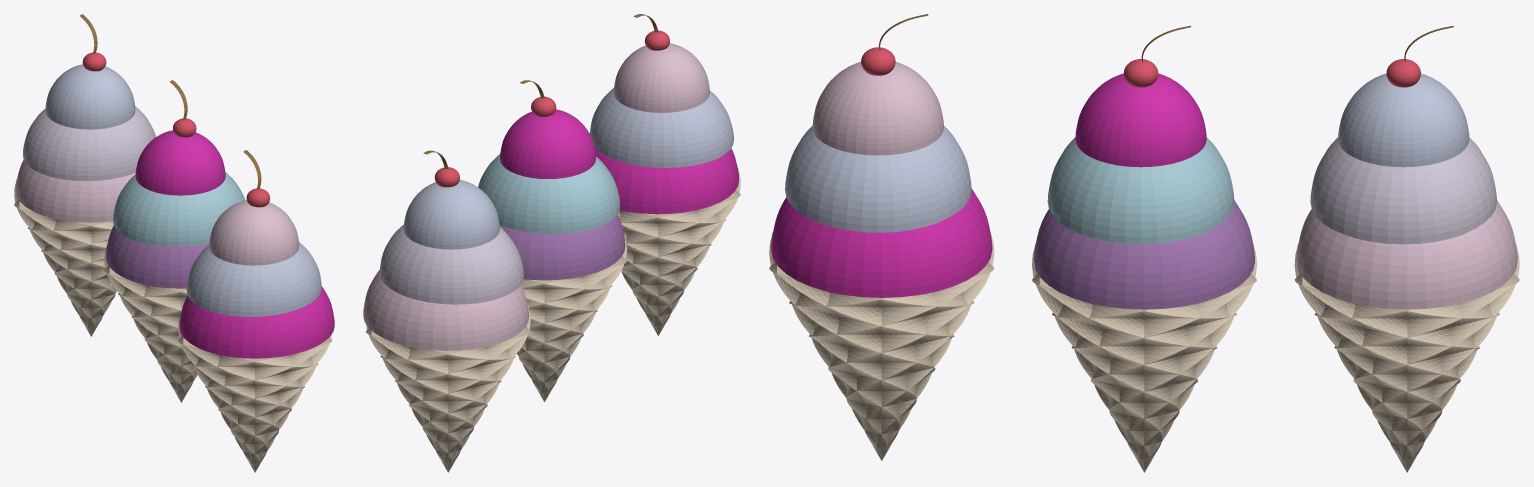
Rendered from Jaelynn G ice cream cone.glb.
3 views of the same model, side by side, from view 1: azimuth 30°, elevation 25°; view 2: azimuth 150°, elevation 25°; view 3: azimuth 270°, elevation 25° (orthographic). The views are drawn at different scales.
Parts seen in each view (by area): view 1: Mesh_Mesh_head_geo.001_lambert2SG.001; view 2: Mesh_Mesh_head_geo.001_lambert2SG.001; view 3: Mesh_Mesh_head_geo.001_lambert2SG.001.
Boxes of the visible parts, bbox=[...] form: Mesh_Mesh_head_geo.001_lambert2SG.001: bbox=[14, 14, 334, 472]; Mesh_Mesh_head_geo.001_lambert2SG.001: bbox=[363, 14, 740, 472]; Mesh_Mesh_head_geo.001_lambert2SG.001: bbox=[769, 14, 1519, 472].
Bounding box in the file's own units: 0.039 × 0.072 × 0.1085.
